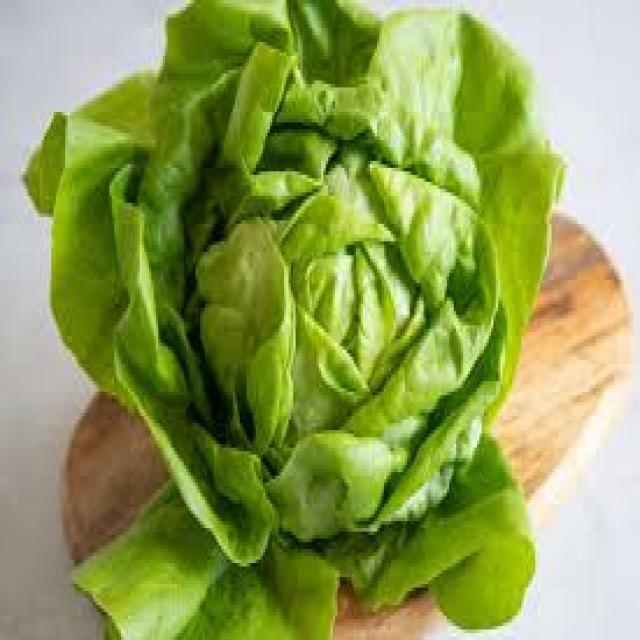Lettuce: (52, 0, 560, 640)
